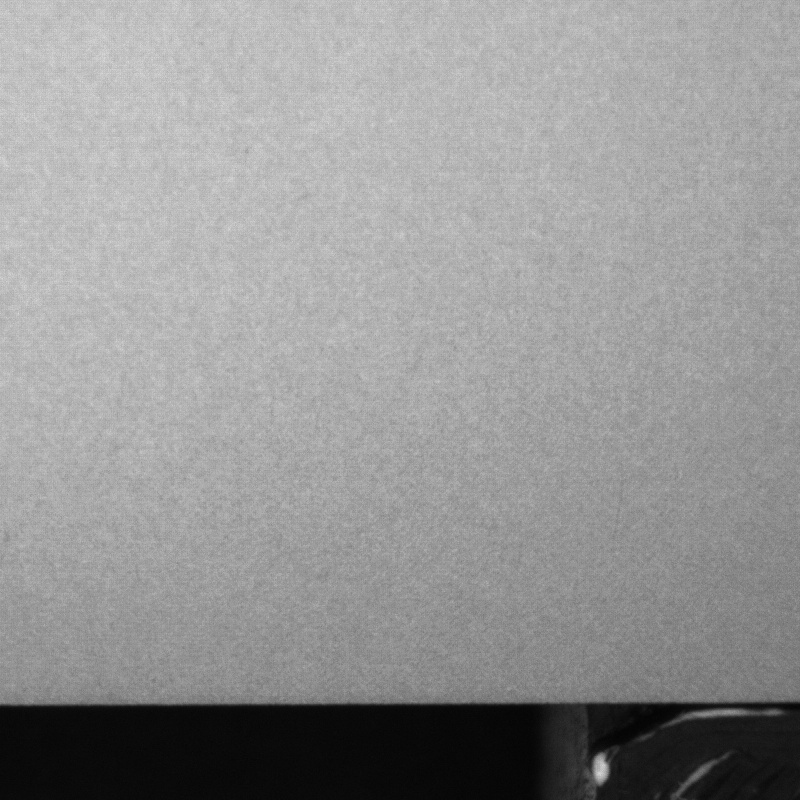defect: (617, 471, 633, 560)
